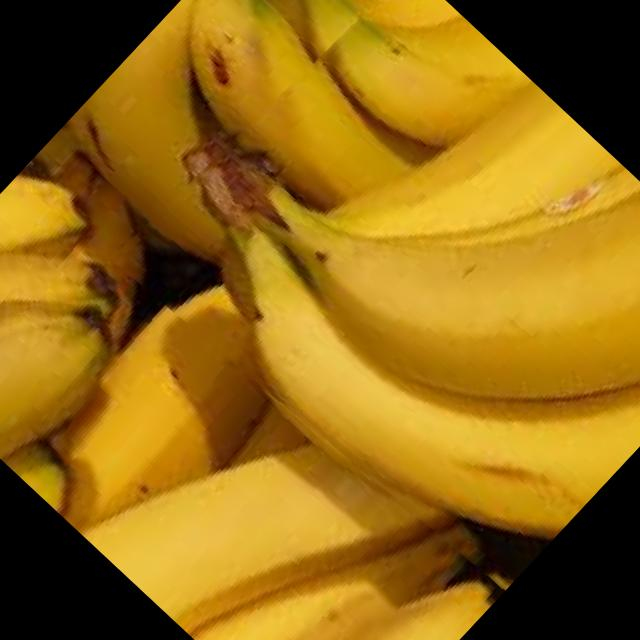Organic: (0, 0, 640, 640), (110, 0, 640, 610)
